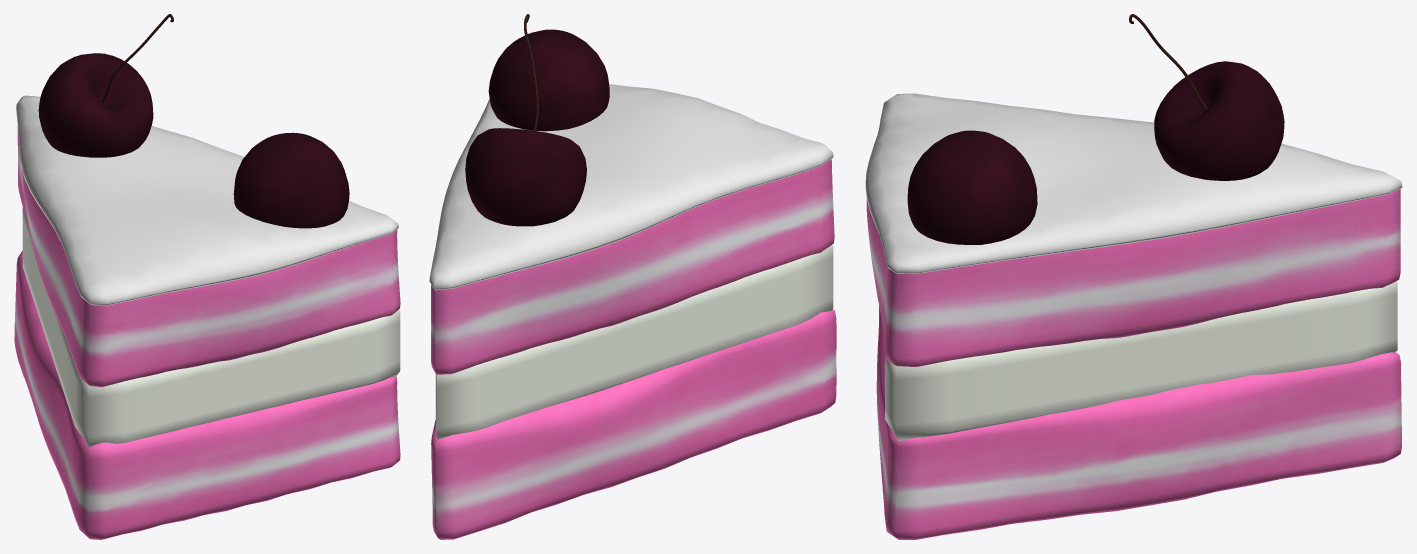
File: cafe_cherry_slice_cake.glb
3 renders of one model, left to right at view 1: azimuth 30°, elevation 25°; view 2: azimuth 150°, elevation 25°; view 3: azimuth 270°, elevation 25°, orthographic. The views are drawn at different scales.
Parts seen in each view (by area): view 1: Bread02, CreamCheese01, Bread01, CreamCheese02, Cherry01, Cherry02; view 2: Bread02, Bread01, CreamCheese01, CreamCheese02, Cherry01, Cherry02; view 3: Bread02, Bread01, CreamCheese01, CreamCheese02, Cherry01, Cherry02.
Boxes of the visible parts, <box> form: Bread02: <box>14,251,400,539</box>; CreamCheese01: <box>16,95,398,305</box>; Bread01: <box>17,126,400,387</box>; CreamCheese02: <box>22,207,400,447</box>; Cherry01: <box>38,53,153,157</box>; Cherry02: <box>233,132,349,228</box>; Bread02: <box>431,309,836,539</box>; Bread01: <box>431,159,834,374</box>; CreamCheese01: <box>429,84,833,290</box>; CreamCheese02: <box>435,245,833,439</box>; Cherry01: <box>465,128,586,226</box>; Cherry02: <box>488,29,609,131</box>; Bread02: <box>876,305,1401,539</box>; Bread01: <box>866,189,1400,366</box>; CreamCheese01: <box>865,93,1402,273</box>; CreamCheese02: <box>885,281,1397,441</box>; Cherry01: <box>1154,61,1284,180</box>; Cherry02: <box>907,130,1037,244</box>.
Size of the model in its own units: 0.0773 by 0.0968 by 0.1011.
6 materials, 4 textured.
